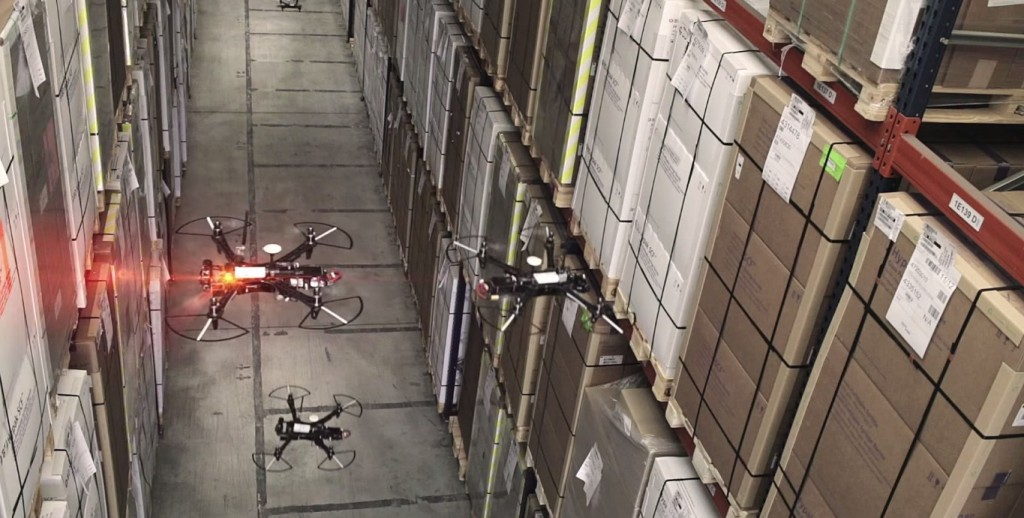drone: (147, 202, 393, 344), (444, 223, 638, 341), (248, 381, 366, 477), (274, 1, 309, 15)
